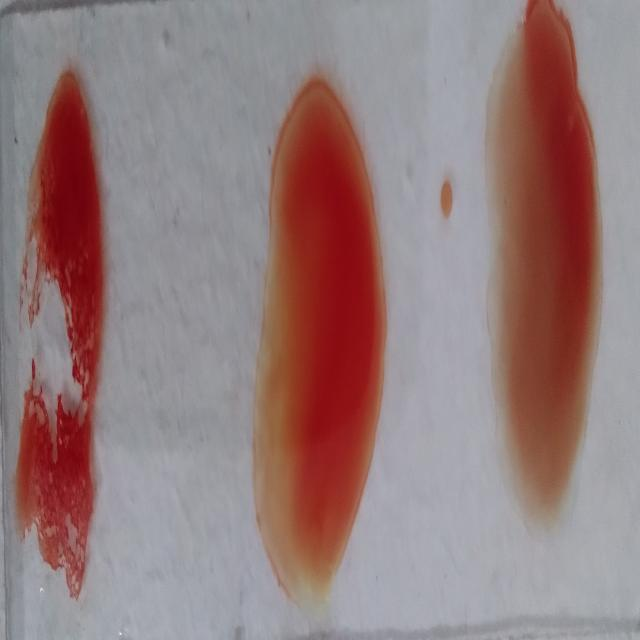D: (11, 85, 110, 615)
